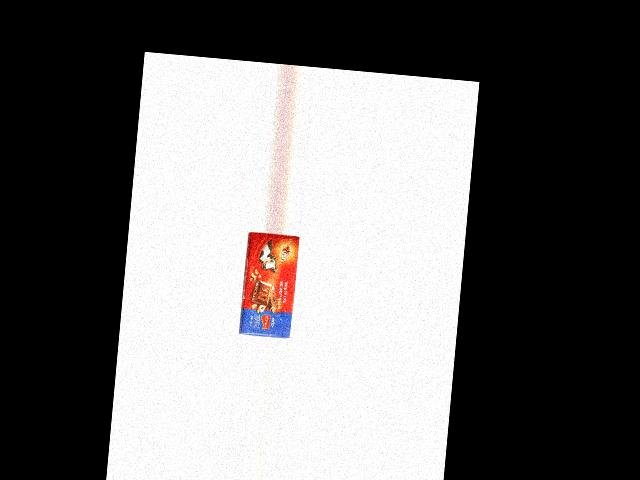chocolate: (239, 230, 299, 338)
